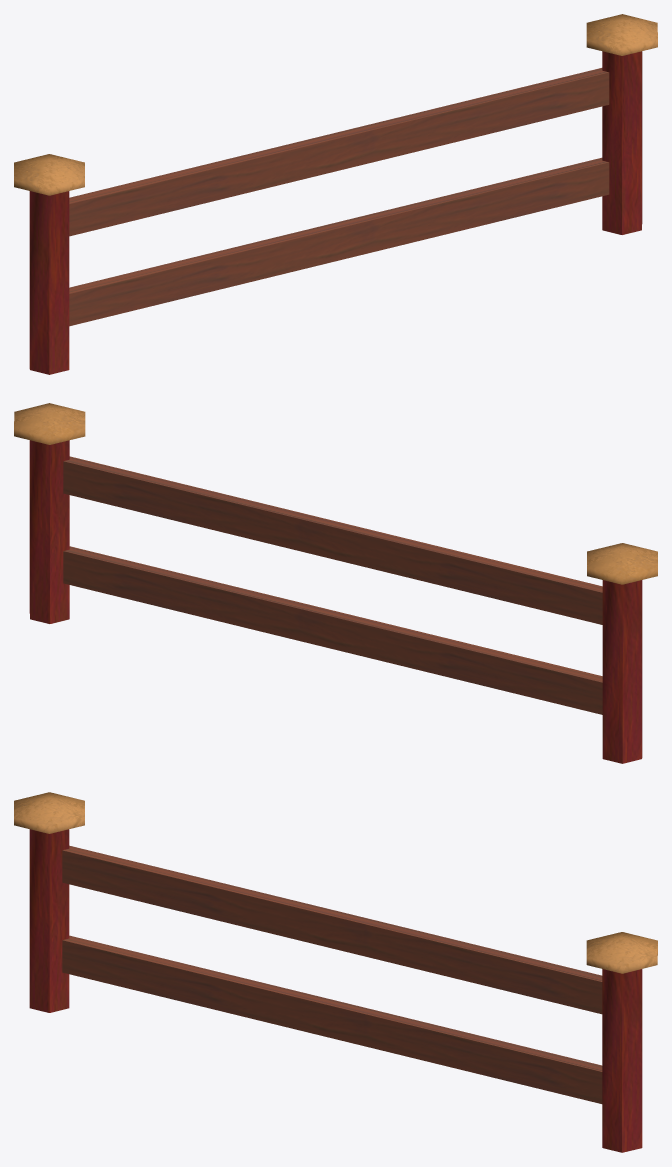
File: polygonalmind-lunar-year-015.glb
The picture shows the model from 3 angles, top to bottom: view 1: azimuth 30°, elevation 25°; view 2: azimuth 150°, elevation 25°; view 3: azimuth 330°, elevation 25°; orthographic projection.
Visible parts, largest first — view 1: Fence01; view 2: Fence01; view 3: Fence01.
Boxes of the visible parts, left/top/right/bottom form: Fence01: left=14, top=14, right=657, bottom=374; Fence01: left=14, top=403, right=657, bottom=763; Fence01: left=14, top=792, right=657, bottom=1152.
Size of the model in its own units: 6.11 by 1.86 by 0.5833.
Materials: 3 (3 with a texture image).
